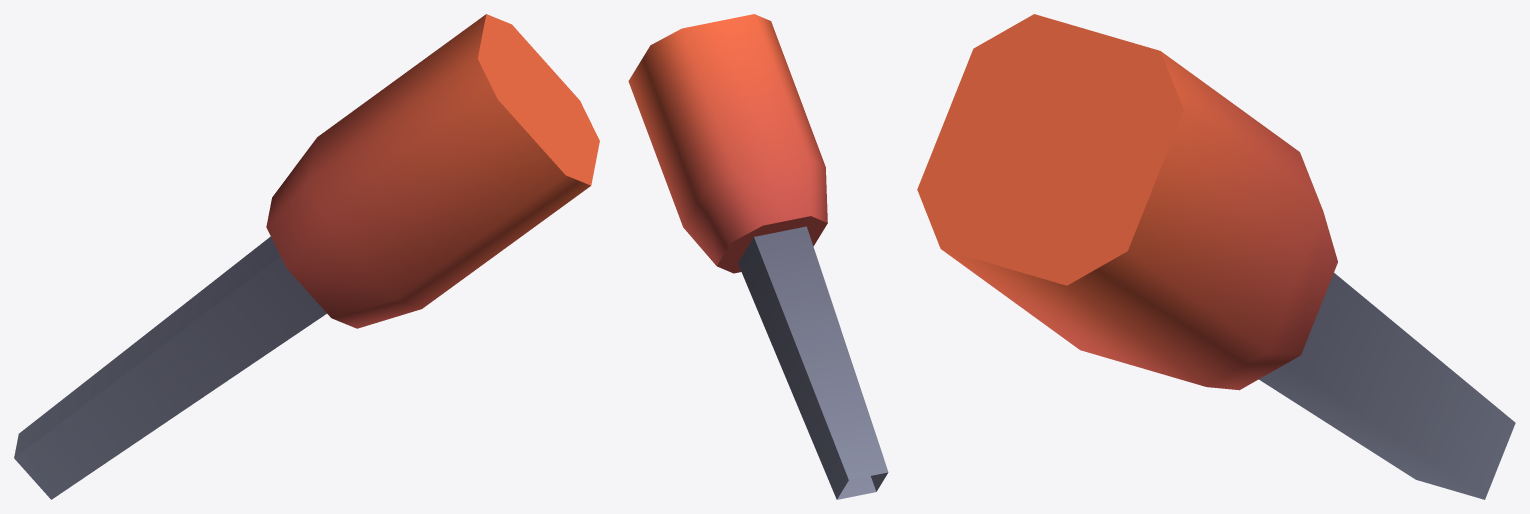
File: n5_n5_n5_handle_lev5.glb
3 renders of one model, left to right at view 1: azimuth 30°, elevation 25°; view 2: azimuth 150°, elevation 25°; view 3: azimuth 270°, elevation 25°, orthographic. The views are drawn at different scales.
Visible parts, largest first — view 1: n5_n5_n5_handle_lev5; view 2: n5_n5_n5_handle_lev5; view 3: n5_n5_n5_handle_lev5.
Part boxes in pixels (bbox=[...]): n5_n5_n5_handle_lev5: bbox=[14, 14, 599, 499]; n5_n5_n5_handle_lev5: bbox=[628, 14, 888, 499]; n5_n5_n5_handle_lev5: bbox=[917, 14, 1515, 499].
Size of the model in its own units: 0.9213 by 0.9005 by 0.7256.
1 material, 1 textured.
